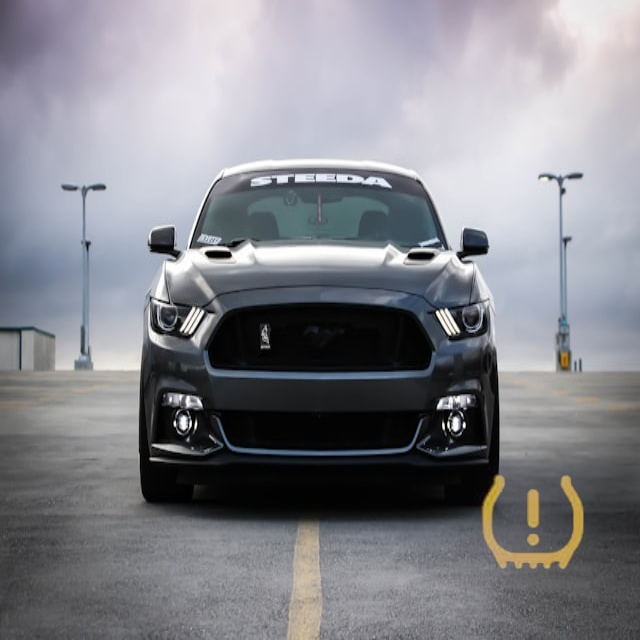symbol: (447, 437, 620, 610)
